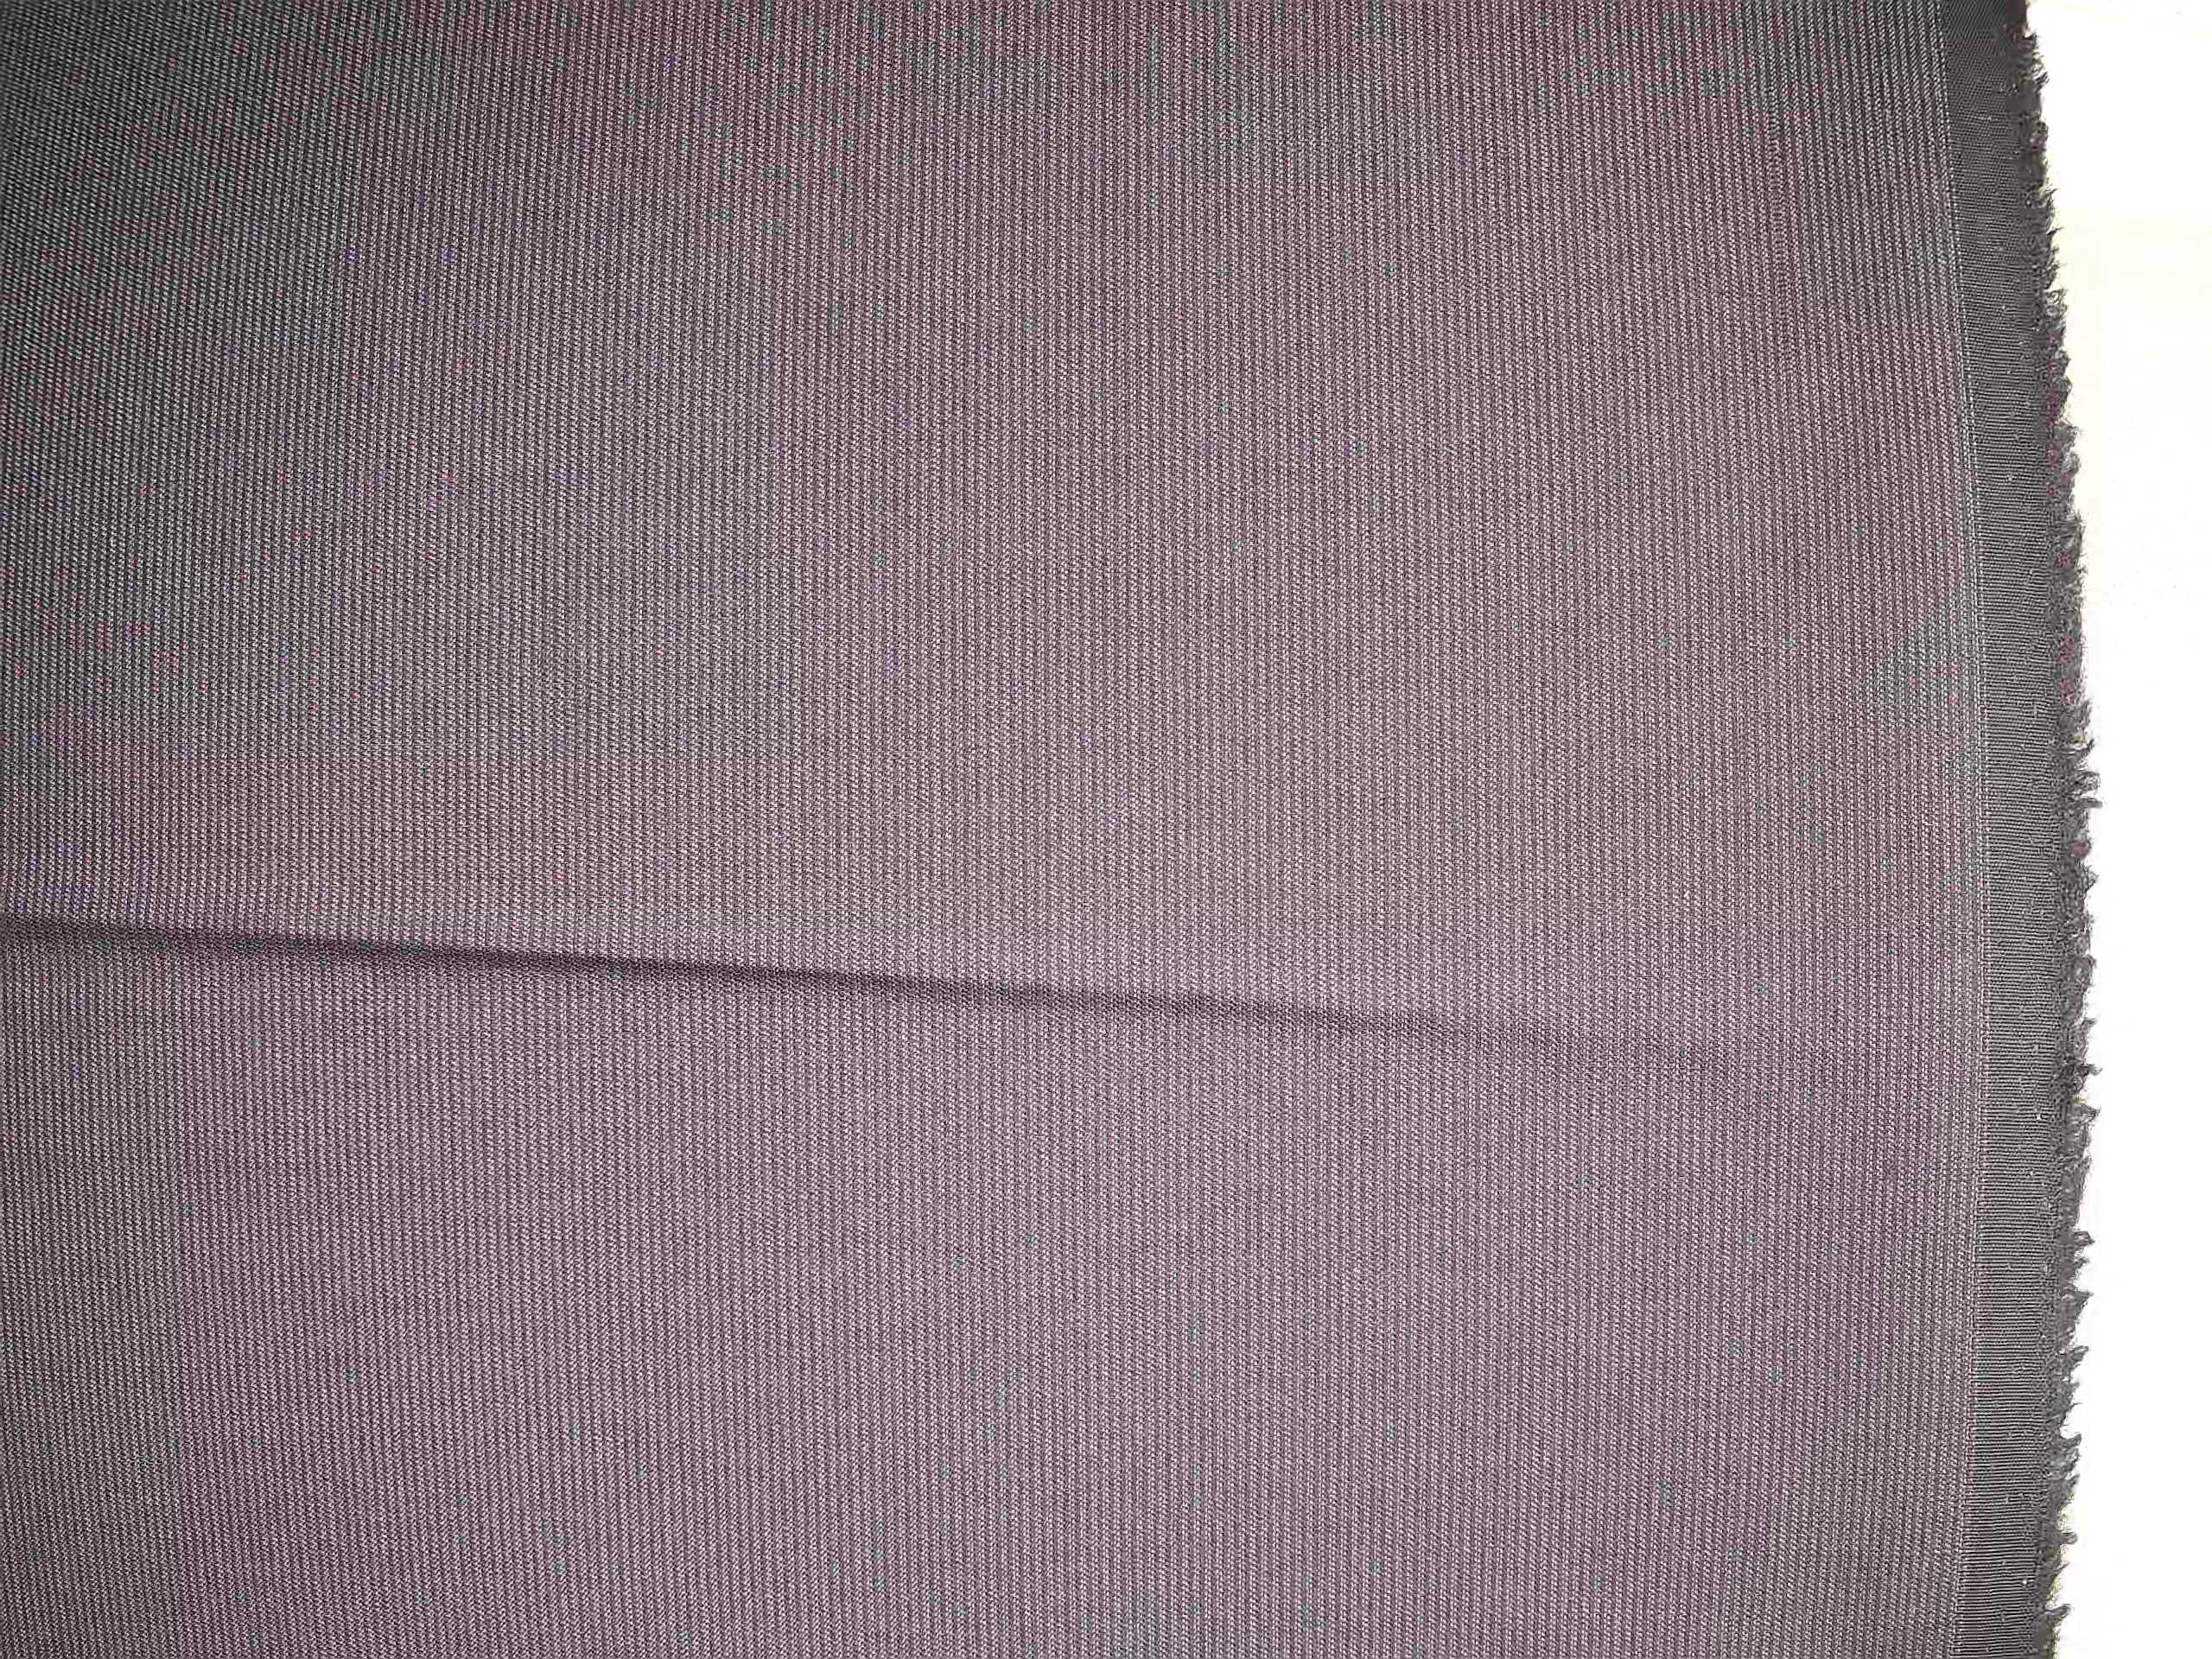hanging-warp: (1750, 56, 1832, 606)
